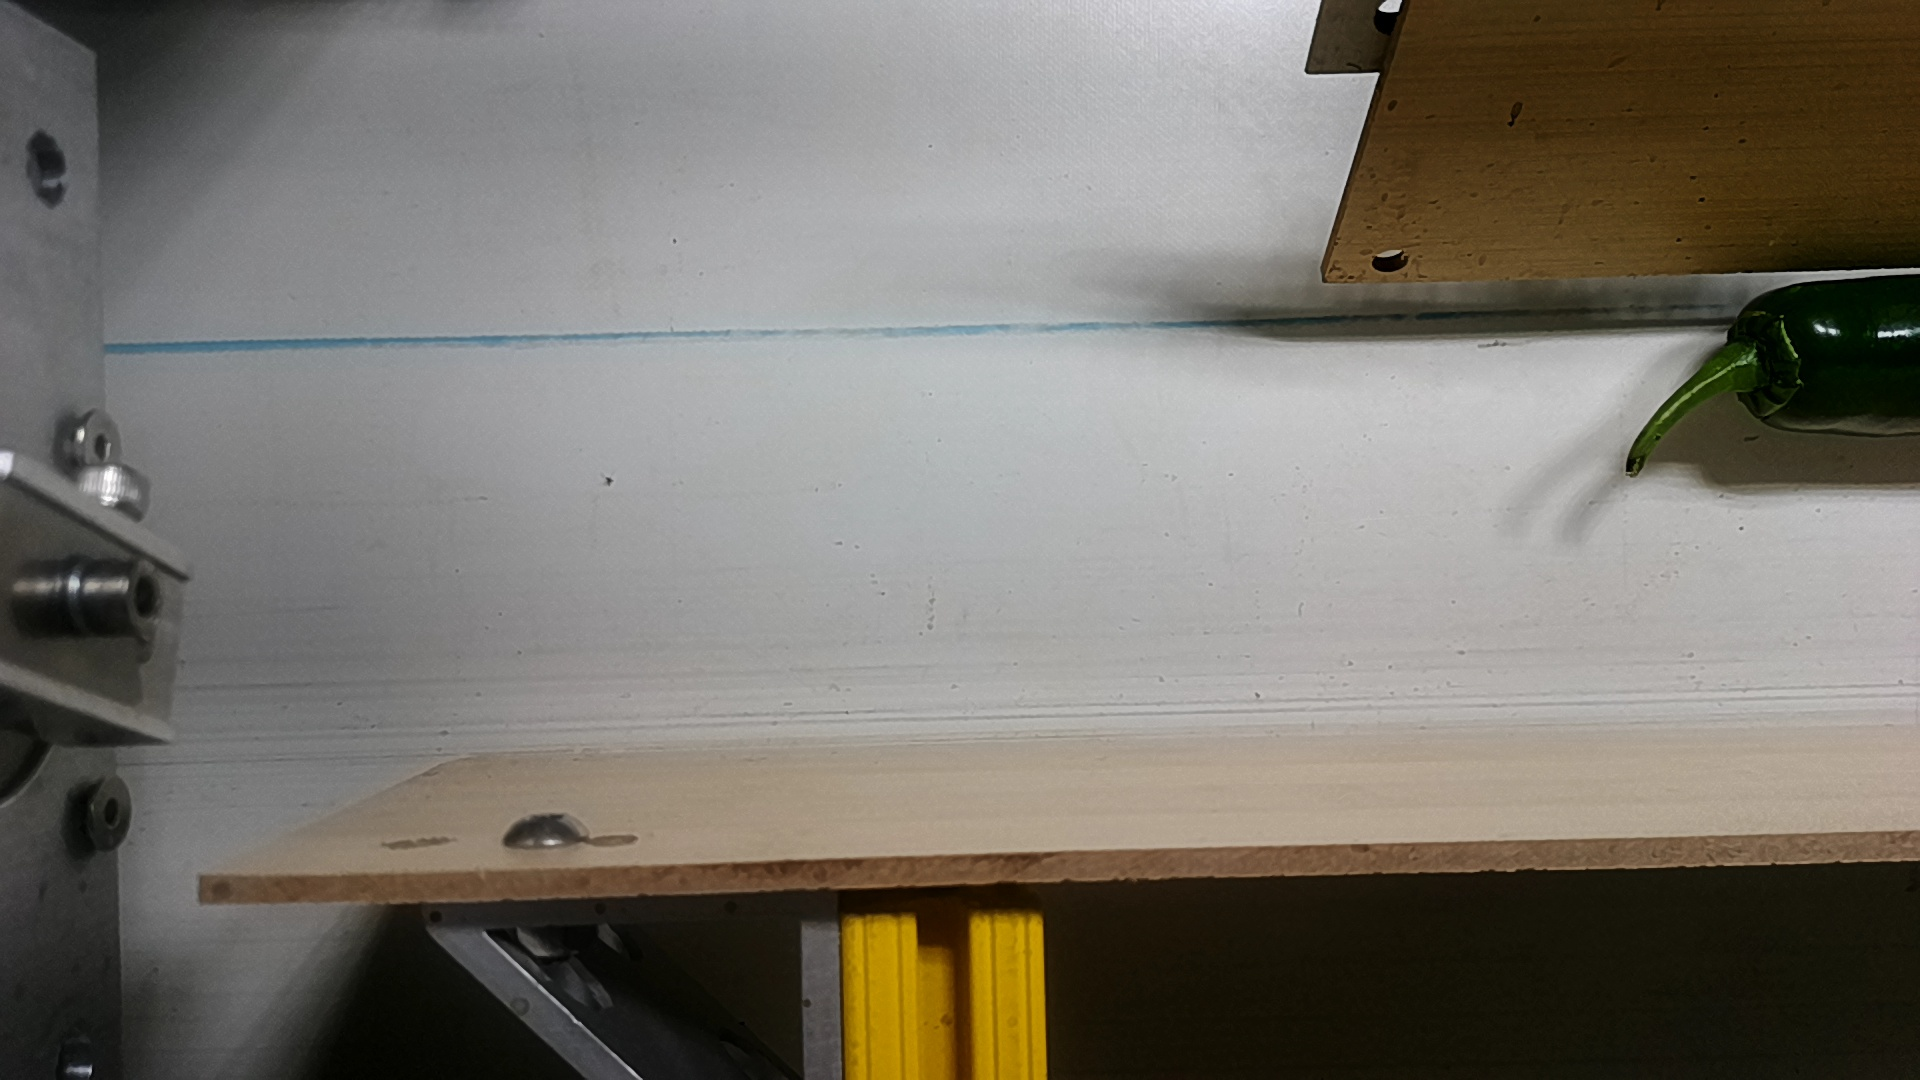Cut Point: (1720, 287, 1832, 436)
